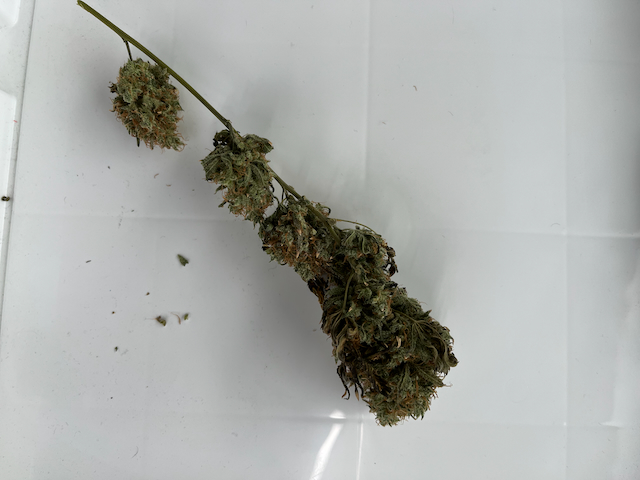Bud: (338, 293, 460, 425), (313, 229, 395, 312), (260, 198, 344, 278), (111, 59, 182, 147), (213, 135, 273, 219), (330, 211, 370, 226)
Leaf-Attachment: (266, 167, 299, 195), (404, 310, 425, 330)
Stem: (152, 54, 240, 132), (74, 0, 158, 58), (116, 38, 136, 60)
